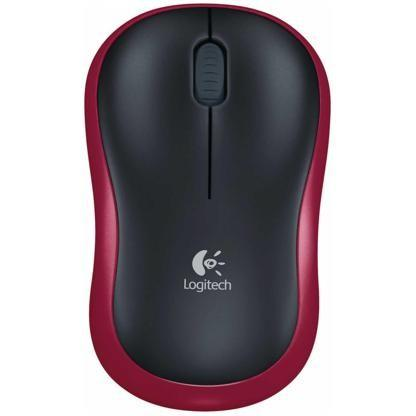not trash: (80, 0, 338, 412)
